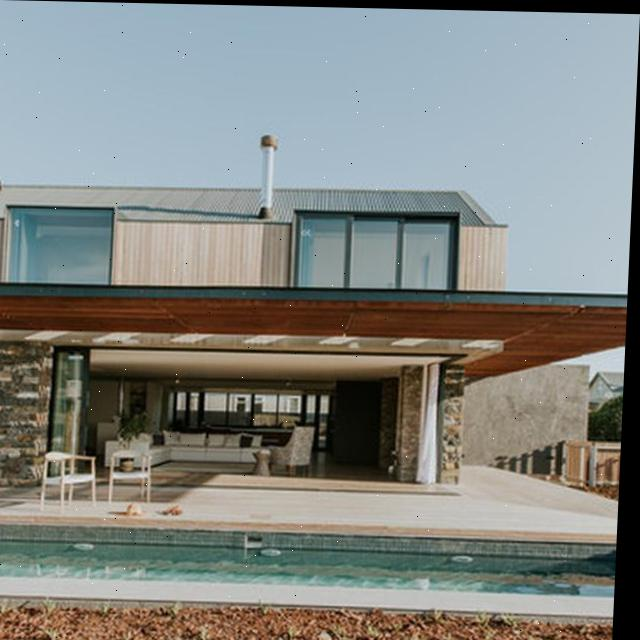building: (0, 180, 599, 493)
